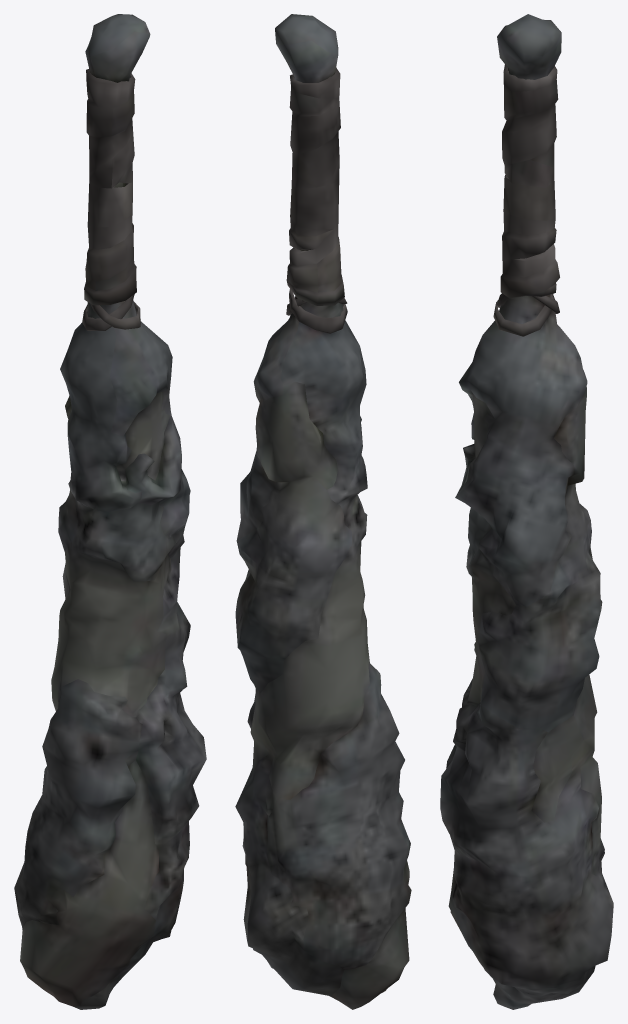
The model's file is weapon-wp_a_0820.glb.
3 renders of one model, left to right at view 1: azimuth 30°, elevation 25°; view 2: azimuth 150°, elevation 25°; view 3: azimuth 270°, elevation 25°, orthographic. The views are drawn at different scales.
Parts seen in each view (by area): view 1: wp_a_0820_mesh; view 2: wp_a_0820_mesh; view 3: wp_a_0820_mesh.
Part boxes in pixels (x1,y1,x2,y2): wp_a_0820_mesh: (14, 14, 206, 1009); wp_a_0820_mesh: (235, 14, 411, 1009); wp_a_0820_mesh: (440, 14, 613, 1009).
Bounding box in the file's own units: 0.1732 × 0.9681 × 0.1511.
1 material, 1 textured.
